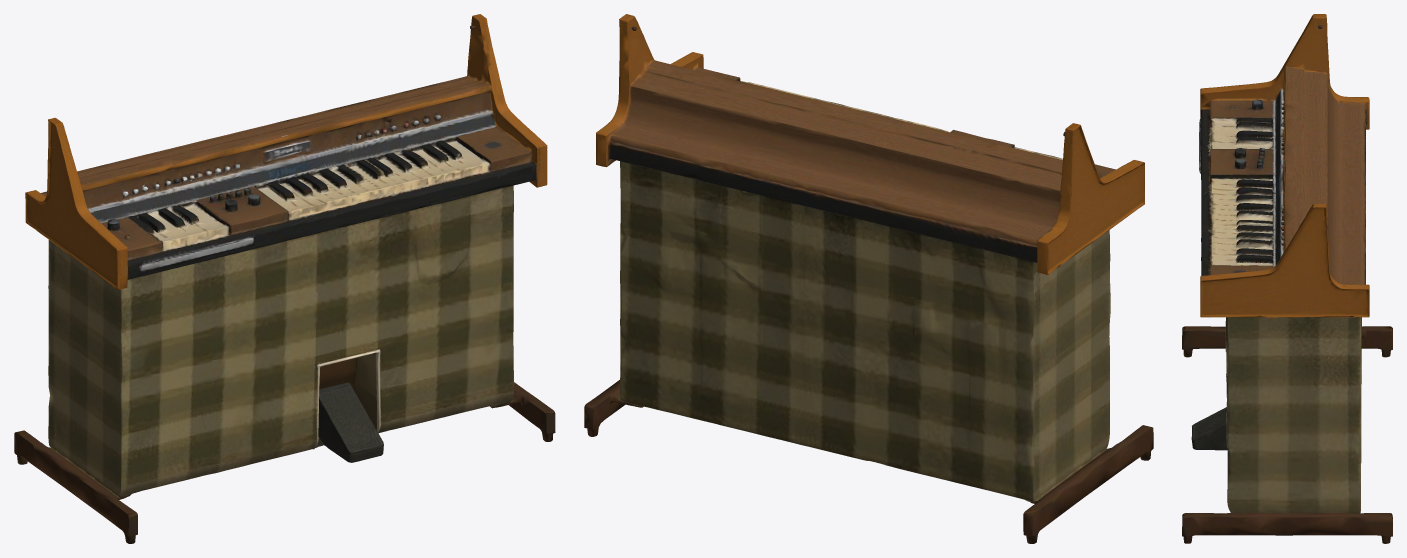
Rendered from FUNMACHINE_EXP.glb.
The picture shows the model from 3 angles, left to right: view 1: azimuth 30°, elevation 25°; view 2: azimuth 150°, elevation 25°; view 3: azimuth 270°, elevation 25°; orthographic projection. The views are drawn at different scales.
Visible parts, largest first — view 1: FUNMACHINE; view 2: FUNMACHINE; view 3: FUNMACHINE.
Part boxes in pixels (x1,y1,x2,y2): FUNMACHINE: (14, 14, 555, 543); FUNMACHINE: (584, 14, 1153, 543); FUNMACHINE: (1182, 14, 1392, 543).
Bounding box in the file's own units: 1.46 × 1.19 × 0.6727.
1 material, 1 textured.
